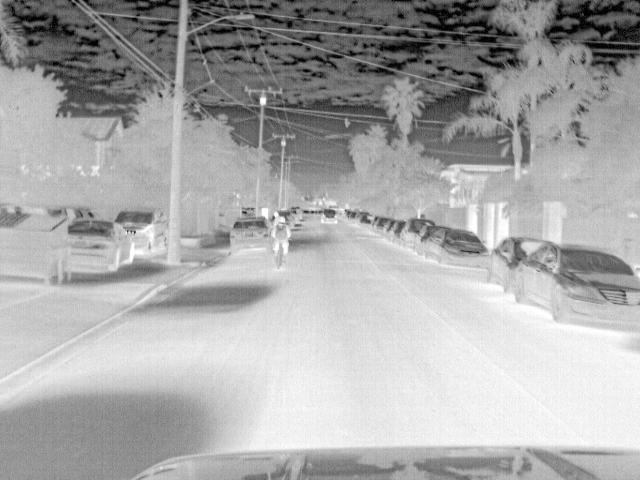car: (514, 244, 638, 332), (61, 220, 136, 276), (483, 236, 558, 292), (112, 208, 170, 258), (423, 225, 490, 267), (228, 219, 273, 253), (401, 218, 435, 252), (389, 221, 407, 243), (317, 208, 340, 224), (374, 218, 391, 234)
person: (272, 214, 290, 256)
